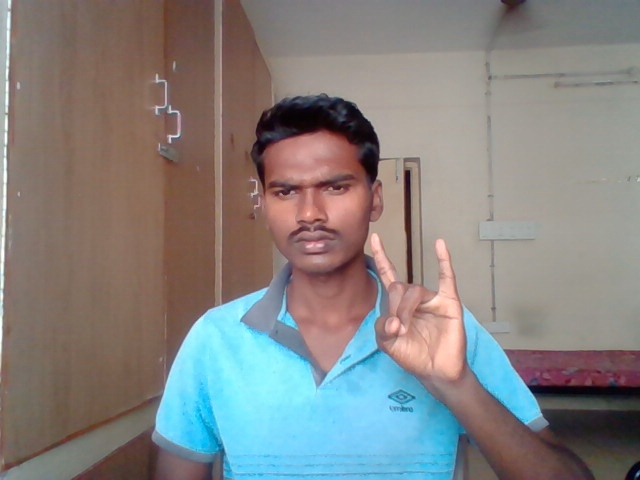I Love You: (367, 230, 468, 384)
